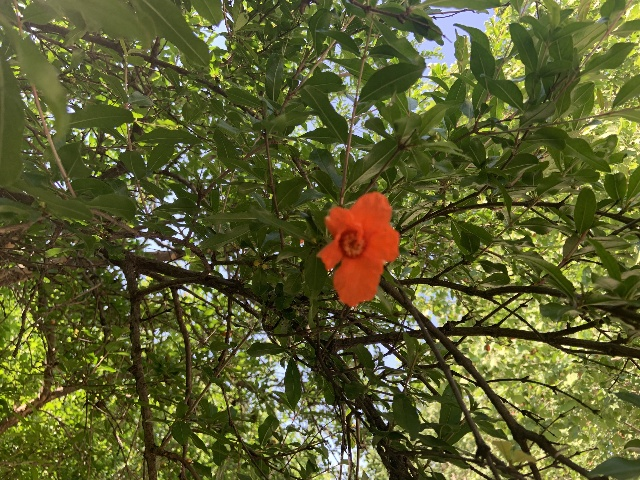flower: (316, 190, 399, 306)
